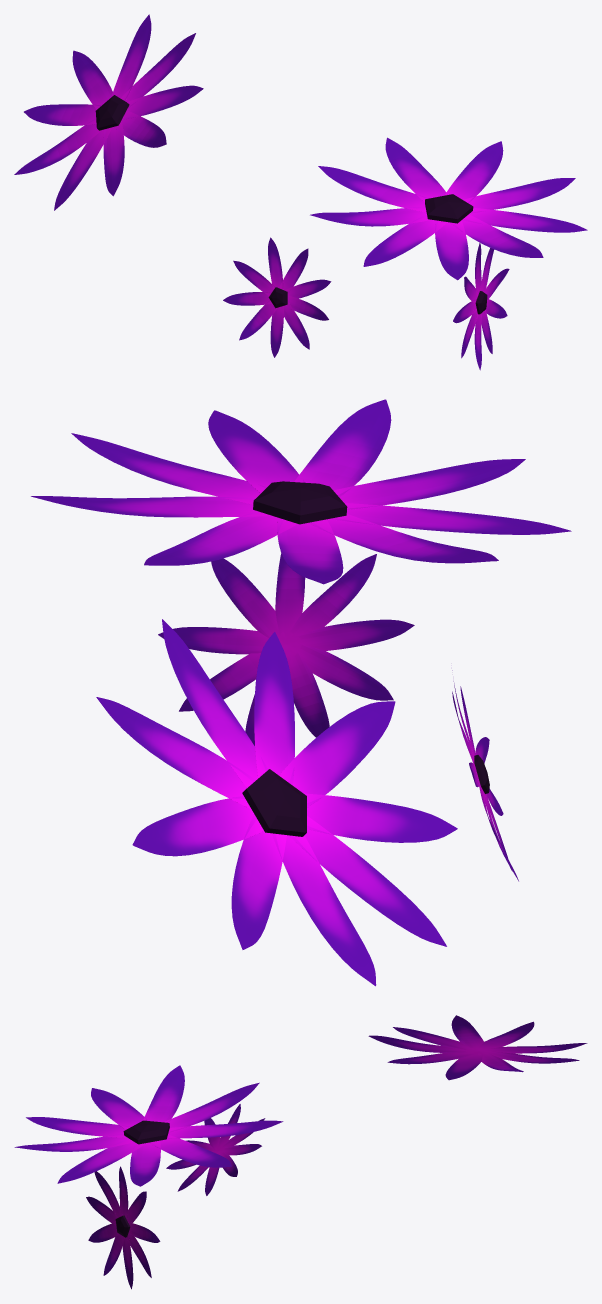
Rendered from LV4Q PP Flower.glb.
The picture shows the model from 3 angles, top to bottom: view 1: azimuth 30°, elevation 25°; view 2: azimuth 150°, elevation 25°; view 3: azimuth 270°, elevation 25°; orthographic projection. The views are drawn at different scales.
Parts seen in each view (by area): view 1: Plane.009; view 2: Plane.009; view 3: Plane.009.
Part boxes in pixels (x1,y1,x2,y2): Plane.009: (14, 14, 587, 370); Plane.009: (31, 399, 571, 986); Plane.009: (14, 1015, 587, 1289).
Bounding box in the file's own units: 1.84 × 1.11 × 2.66.
2 materials, 1 textured.
